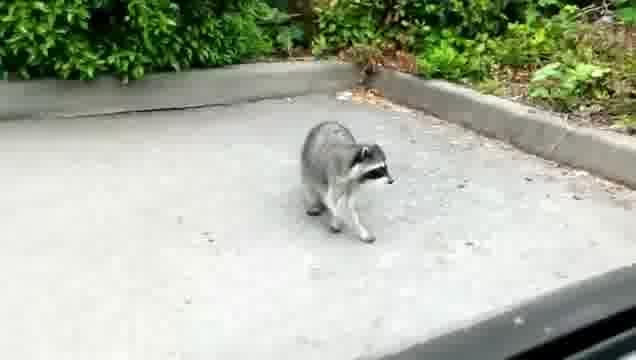raccoon: (296, 117, 401, 248)
